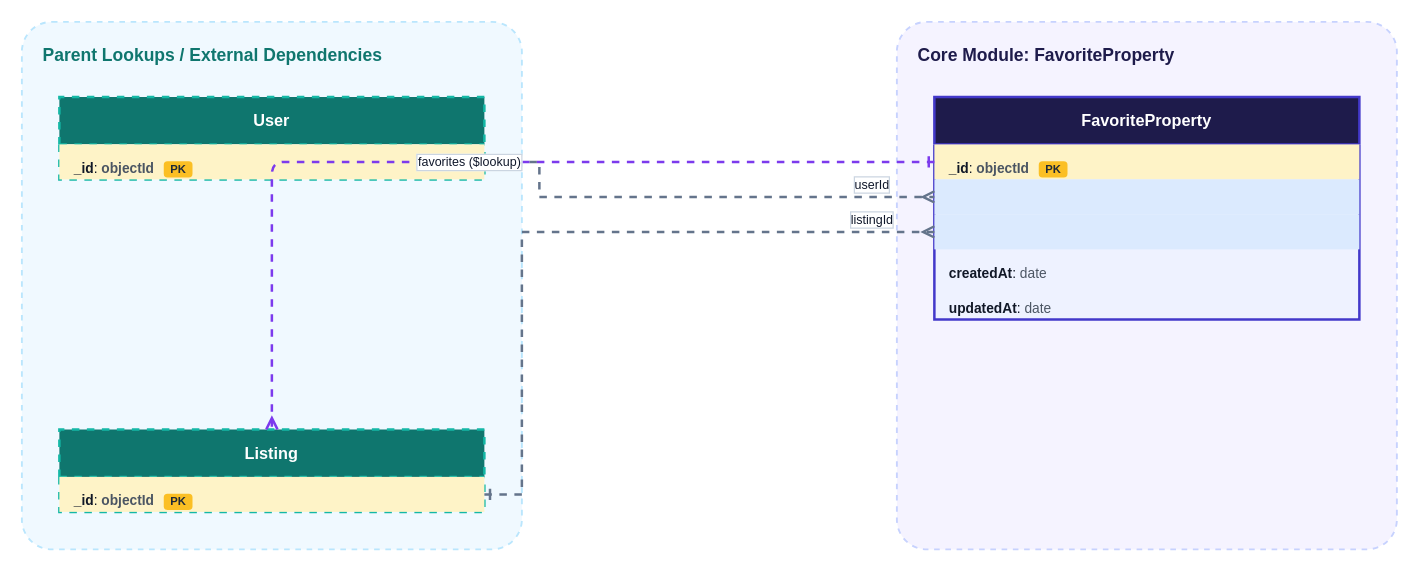
This 1420x573 diagram has some shape labels left out. The shapes that lost their labels are listed below. From the top down, each one's centre as x and y in pixels, then its label:
At (1146,196): "userId : objectId FK IDX".
At (1146,231): "listingId : objectId FK IDX".
